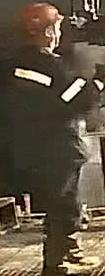helmet: (16, 1, 66, 30)
vest: (3, 52, 90, 181)
